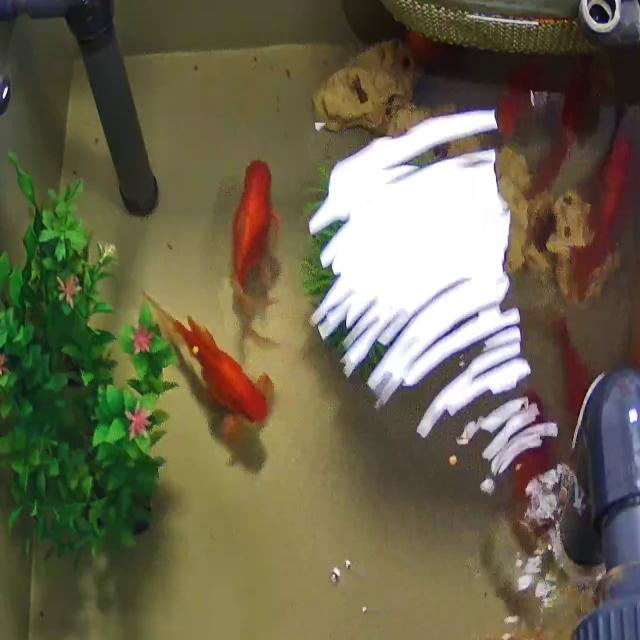fish: (144, 290, 276, 438), (222, 146, 298, 337), (577, 117, 640, 277)
